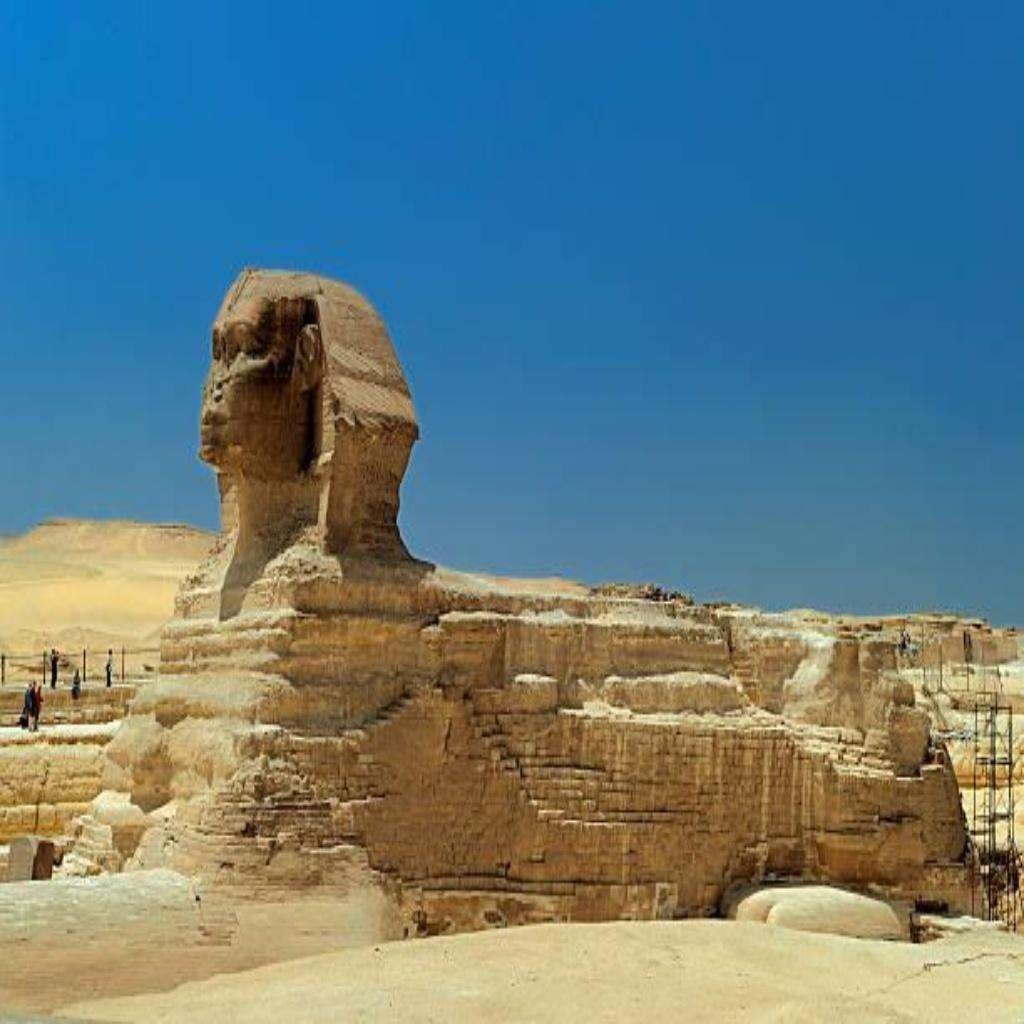Sphinx: (176, 262, 428, 622)
